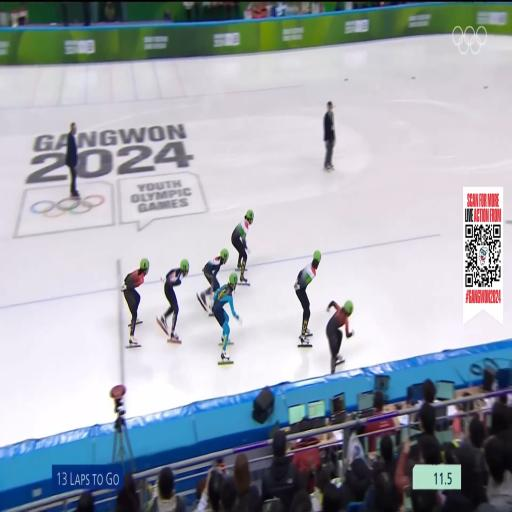Skater: (157, 260, 189, 343), (295, 251, 321, 347), (122, 258, 149, 347), (213, 273, 239, 364), (197, 249, 228, 314), (326, 301, 353, 373), (232, 210, 253, 284)
